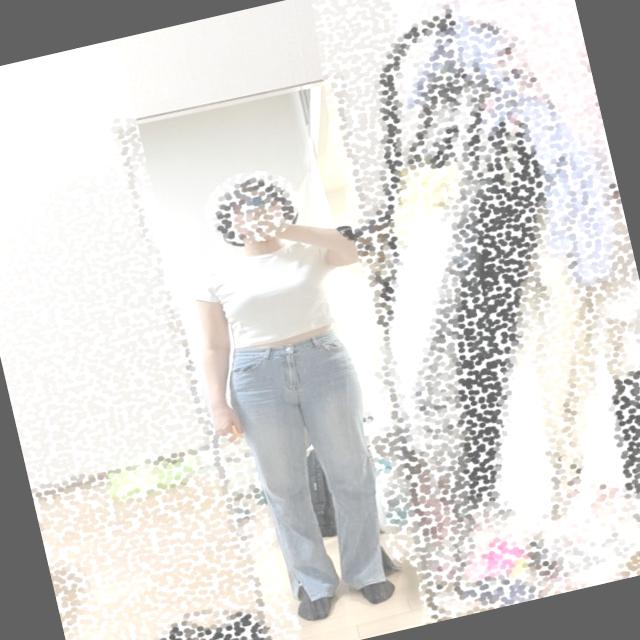denimpants: (221, 322, 405, 608)
shortsleeve: (190, 234, 352, 354)
